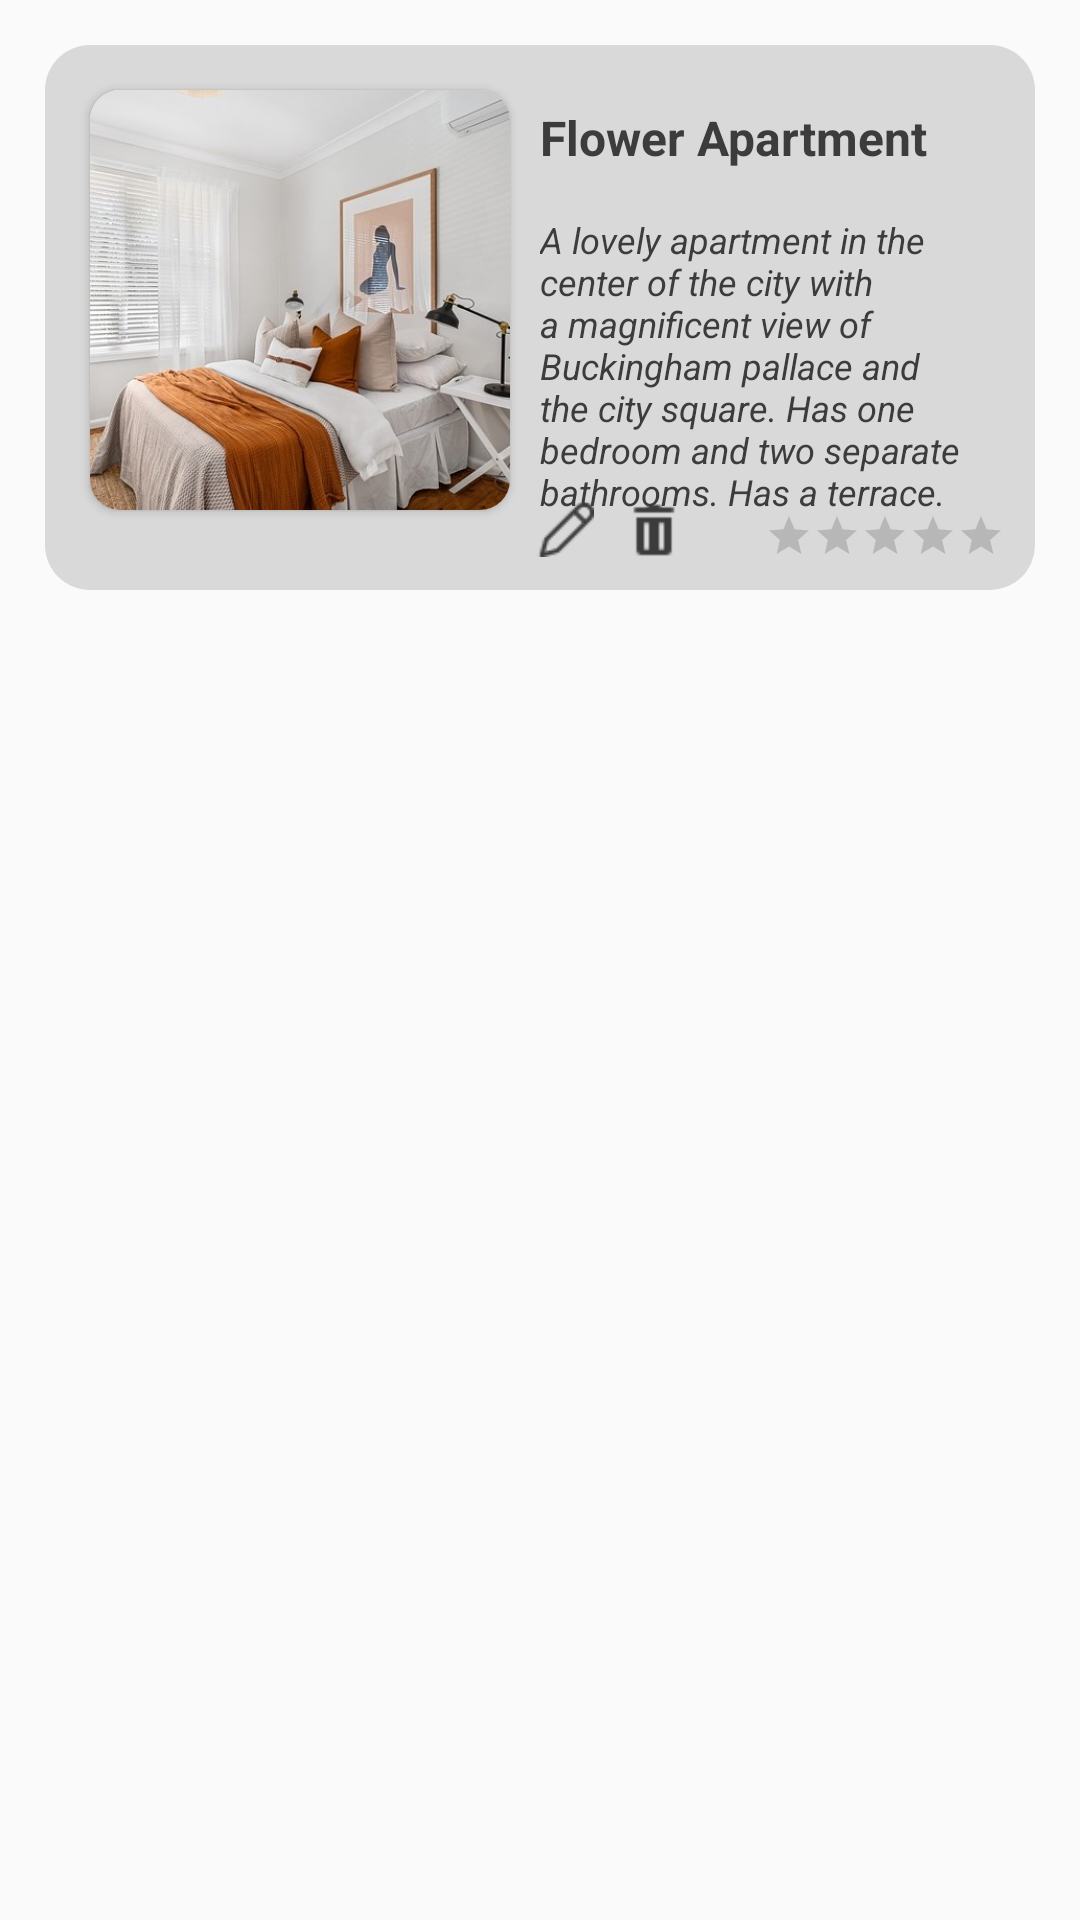

Icons on this 1080 x 1920 Android screen, each with its box as (x1, y1, x2, y2):
pencil: (539, 485, 594, 557)
